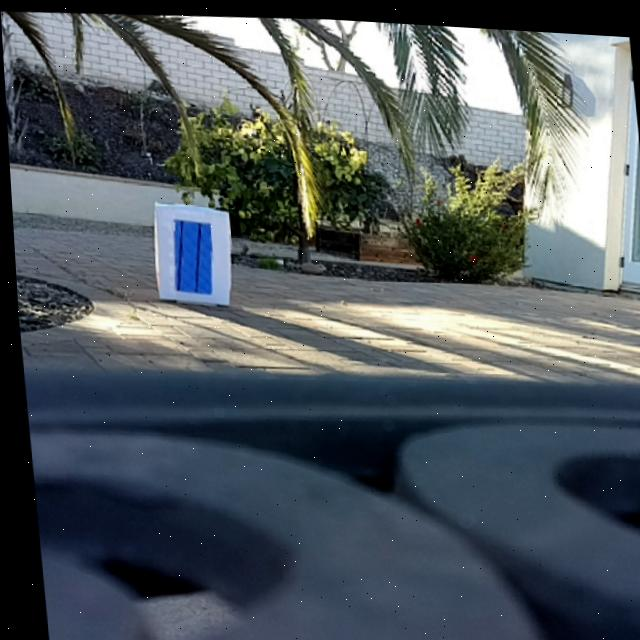led: (166, 216, 212, 294)
